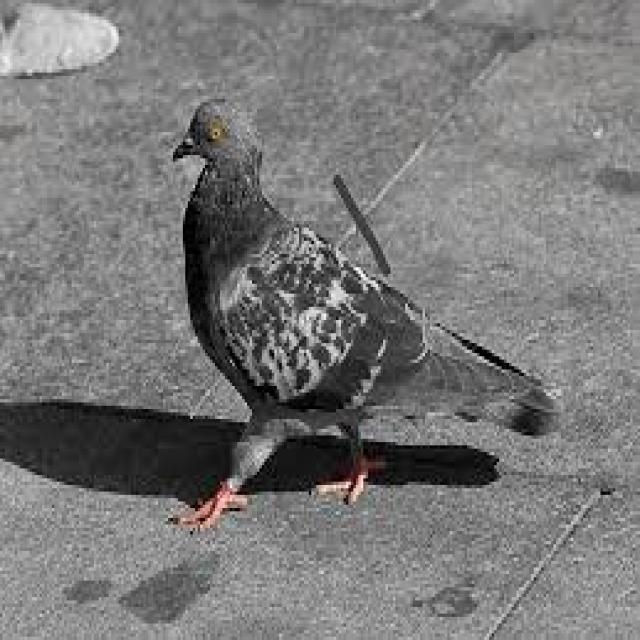pigeon: (162, 90, 572, 521)
